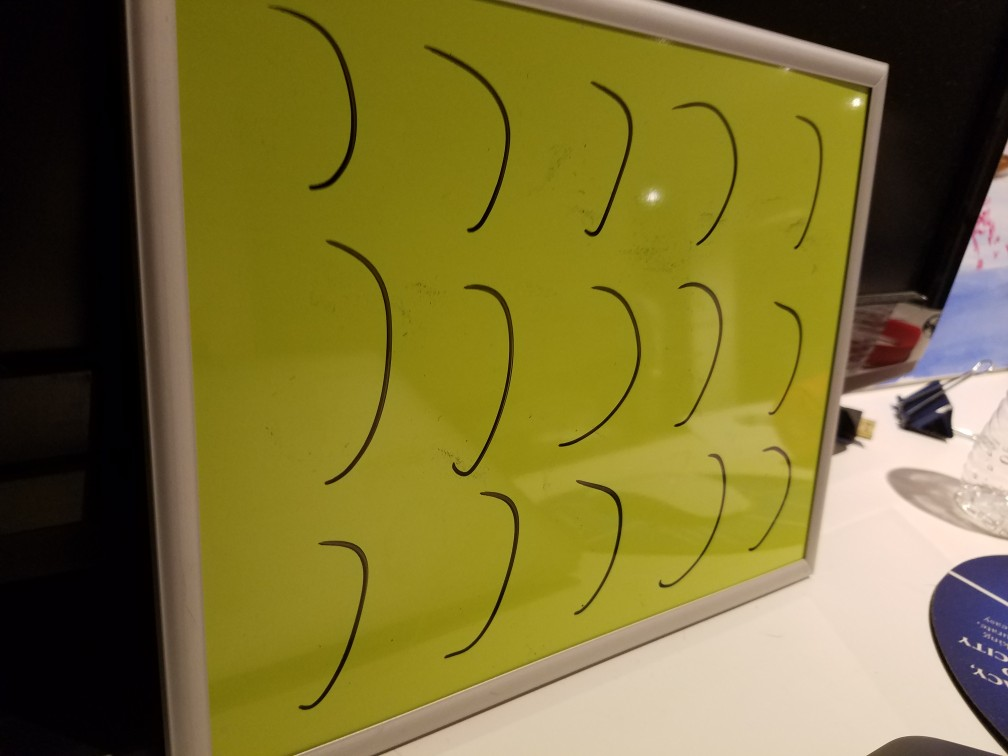): (271, 226, 397, 493), (248, 527, 380, 715), (411, 28, 527, 234), (426, 259, 533, 479), (253, 1, 369, 200), (545, 268, 647, 457), (440, 488, 522, 669), (566, 59, 641, 247), (659, 274, 738, 433), (674, 86, 744, 252), (654, 442, 726, 592), (562, 470, 633, 618), (781, 92, 838, 259), (759, 286, 816, 423), (742, 433, 795, 560)
